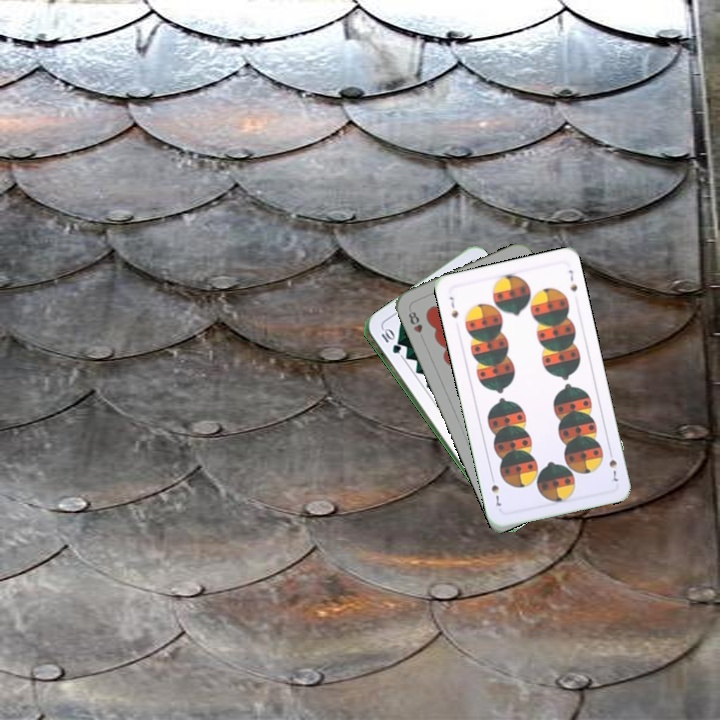G10: (377, 325, 403, 356)
H8: (404, 307, 426, 344)
S7: (605, 446, 621, 484), (445, 292, 461, 321)
